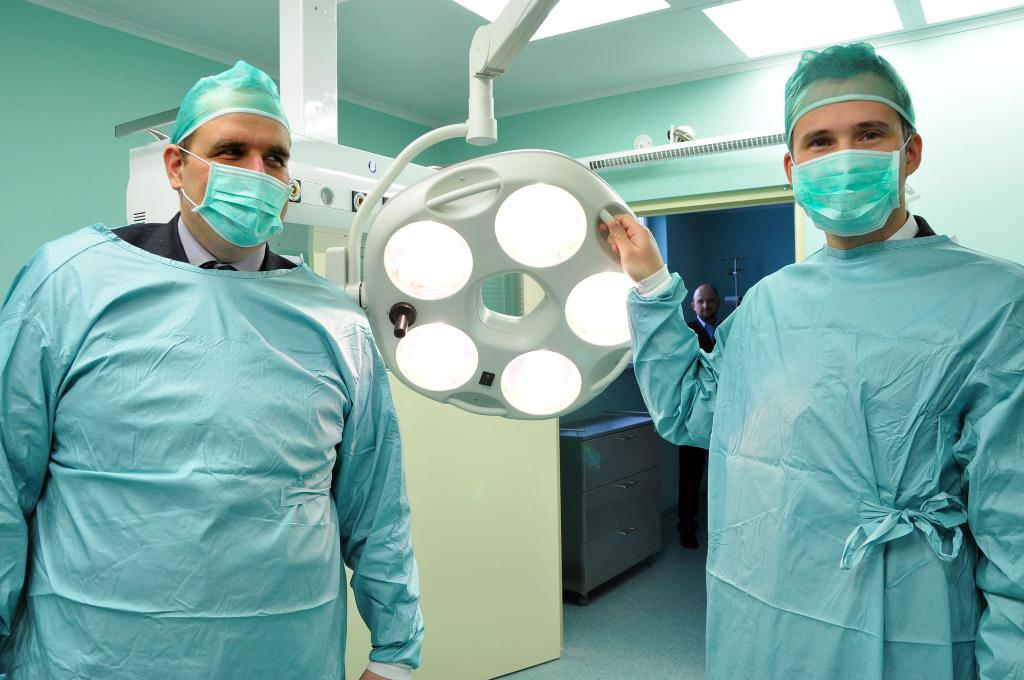Person: (597, 40, 1024, 680), (0, 59, 424, 679), (669, 278, 718, 561)
